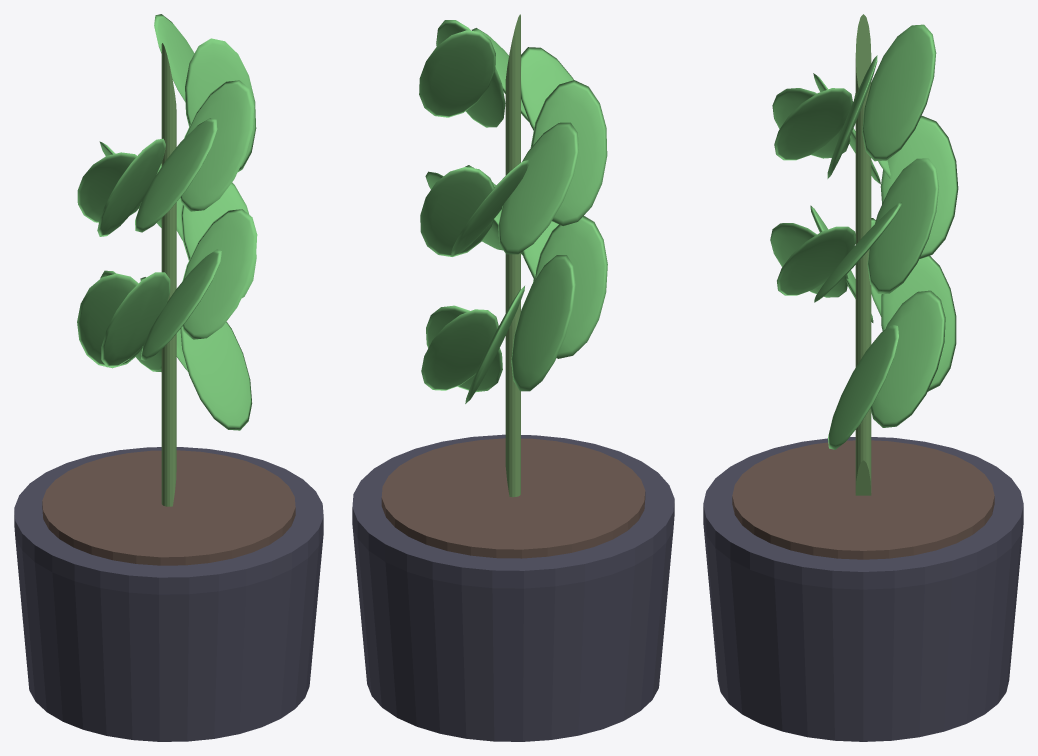
The picture shows the model from 3 angles, left to right: view 1: azimuth 30°, elevation 25°; view 2: azimuth 150°, elevation 25°; view 3: azimuth 270°, elevation 25°; orthographic projection. The views are drawn at different scales.
Parts seen in each view (by area): view 1: Pot_Complete, Leaves, Soil, Stem; view 2: Pot_Complete, Leaves, Soil, Stem; view 3: Pot_Complete, Leaves, Soil, Stem.
Part boxes in pixels (x1,y1,x2,y2): Pot_Complete: (14, 447, 323, 741); Leaves: (77, 14, 257, 430); Soil: (42, 450, 295, 565); Stem: (161, 43, 176, 506); Pot_Complete: (352, 434, 674, 741); Leaves: (419, 20, 607, 403); Soil: (381, 438, 645, 558); Stem: (505, 14, 520, 497); Pot_Complete: (703, 437, 1023, 741); Leaves: (770, 24, 958, 449); Soil: (732, 440, 994, 559); Stem: (855, 14, 871, 495).
Bounding box in the file's own units: 0.33 × 0.7538 × 0.33.
